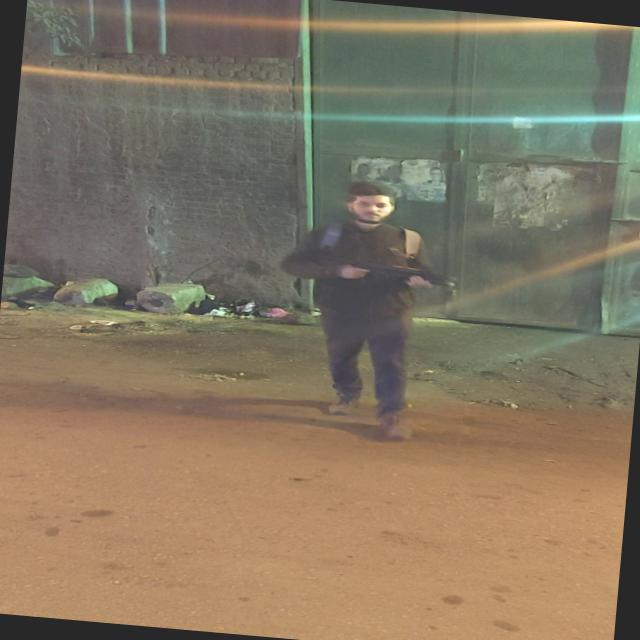long weapon: (294, 238, 468, 302)
